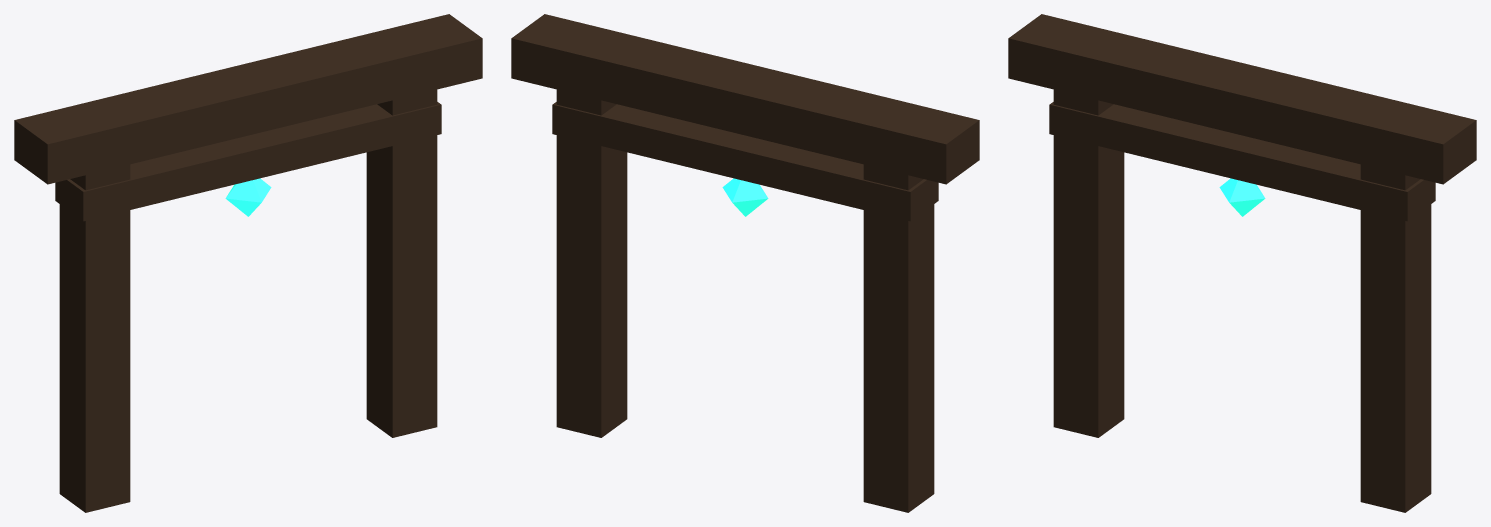
Rendered from ancient_shrine.glb.
3 renders of one model, left to right at view 1: azimuth 30°, elevation 25°; view 2: azimuth 150°, elevation 25°; view 3: azimuth 330°, elevation 25°, orthographic.
Bounding box in the file's own units: 3.4 × 2.85 × 0.45.
